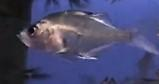Glass Perchlet: (16, 9, 159, 61)
